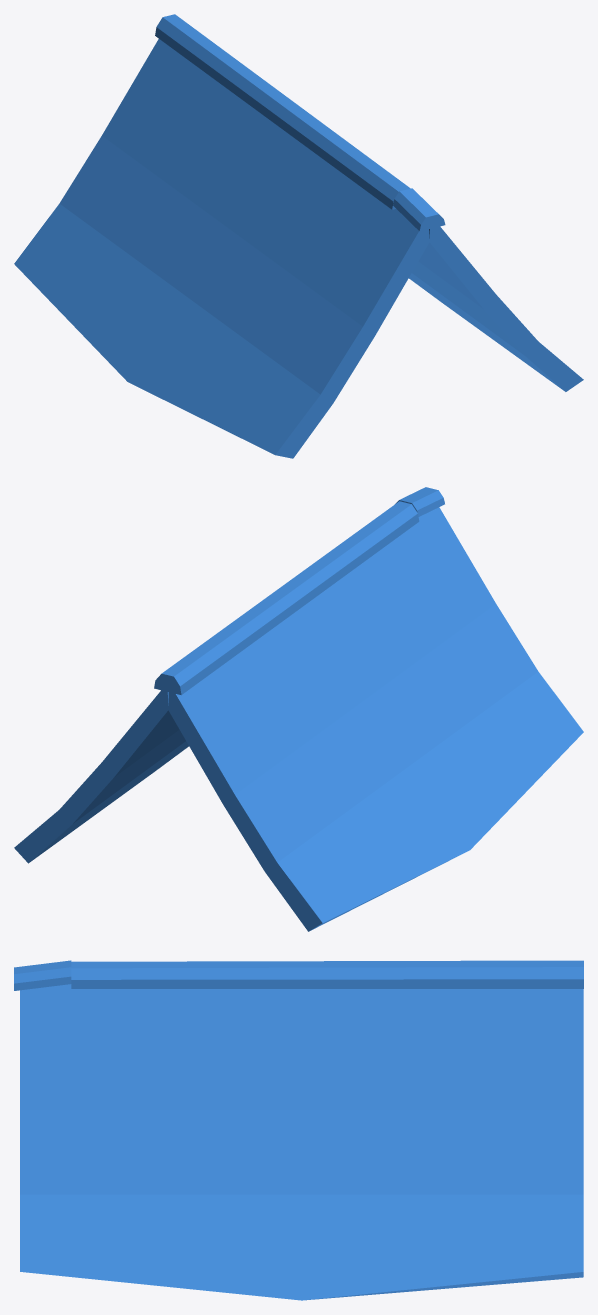
The model's file is Collision_Roof_FlatTiles_6x10.fbx.
The picture shows the model from 3 angles, top to bottom: view 1: azimuth 30°, elevation 25°; view 2: azimuth 150°, elevation 25°; view 3: azimuth 270°, elevation 25°; orthographic projection. The views are drawn at different scales.
Visible parts, largest first — view 1: UCX_Roof_FlatTiles_6x10_01; view 2: UCX_Roof_FlatTiles_6x10_01; view 3: UCX_Roof_FlatTiles_6x10_01.
Boxes of the visible parts, x1,y1,x2,y2 form: UCX_Roof_FlatTiles_6x10_01: (14,14,583,458); UCX_Roof_FlatTiles_6x10_01: (14,487,583,931); UCX_Roof_FlatTiles_6x10_01: (14,960,583,1300).
Size of the model in its own units: 891 by 568 by 1189.
